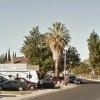Palm tree: (20, 17, 78, 65)
